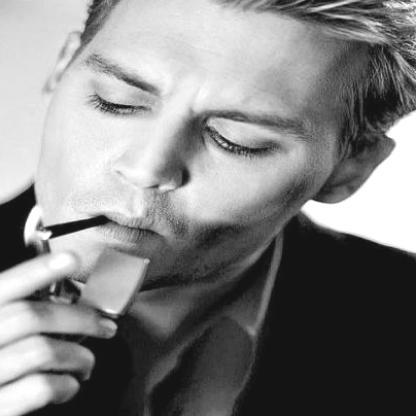cigarette: (30, 214, 115, 245)
person: (0, 0, 415, 415)
